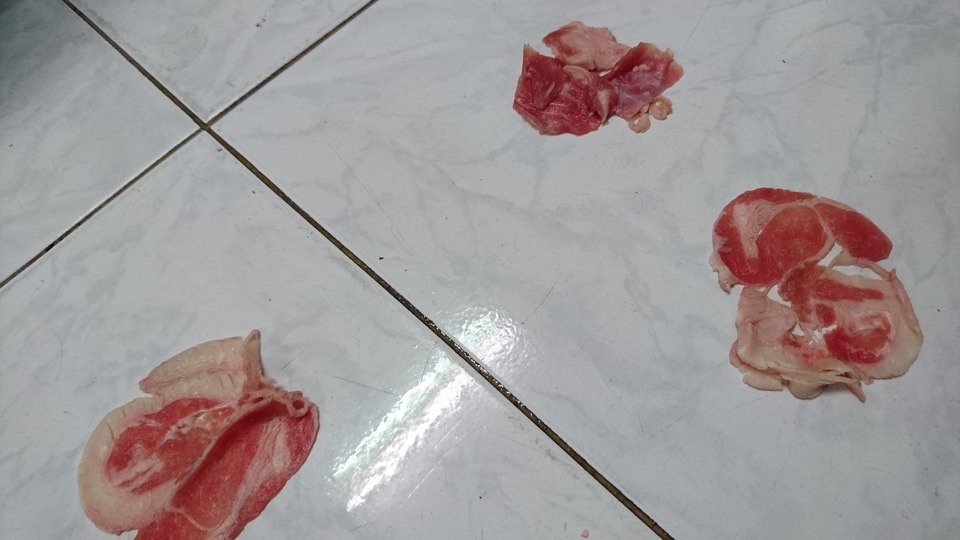restructured meat: (76, 324, 331, 539), (708, 180, 935, 411), (511, 17, 692, 143)
